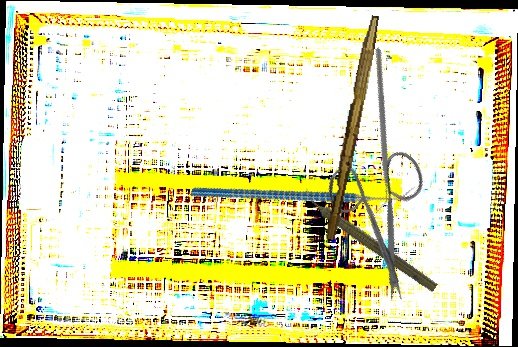Chopper: (189, 111, 416, 271), (300, 47, 456, 212)
Handpiece: (297, 185, 442, 295)
Iris Scissors: (295, 126, 477, 306)
Scalpel Handle: (323, 13, 381, 242)
